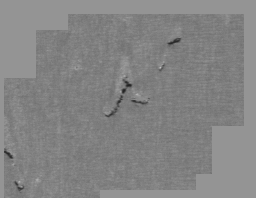oxl: (35, 10, 221, 188)
